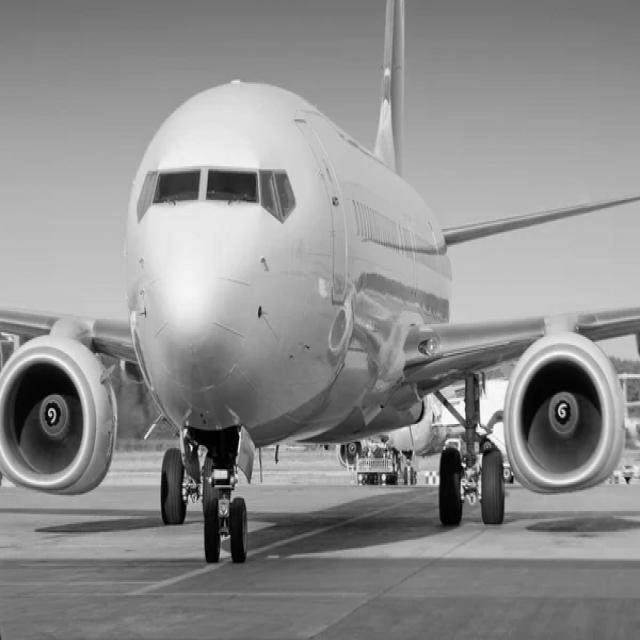Aircraft: (1, 19, 628, 573)
